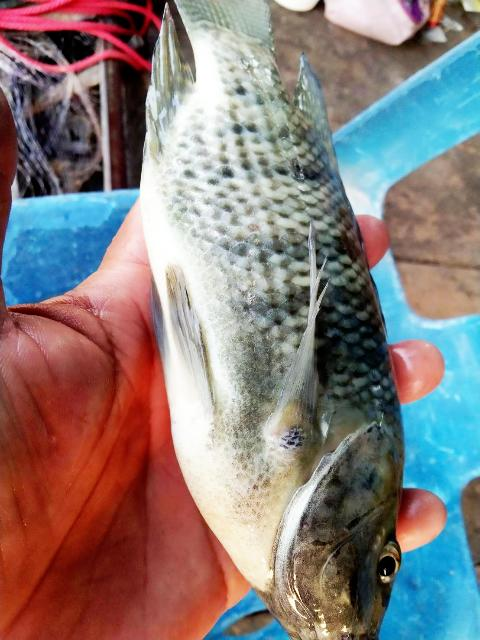Columnaris Disease: (140, 0, 403, 640)
